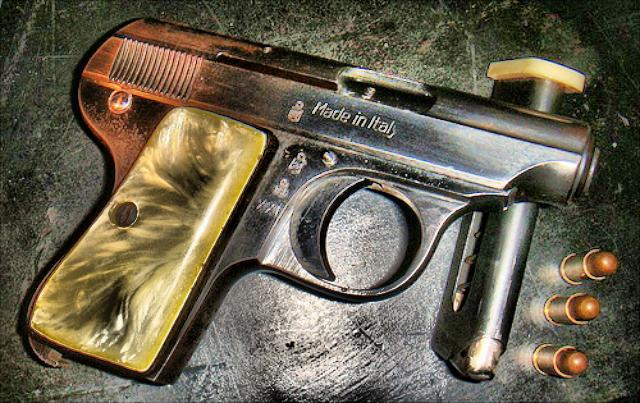pistol: (16, 12, 596, 384)
